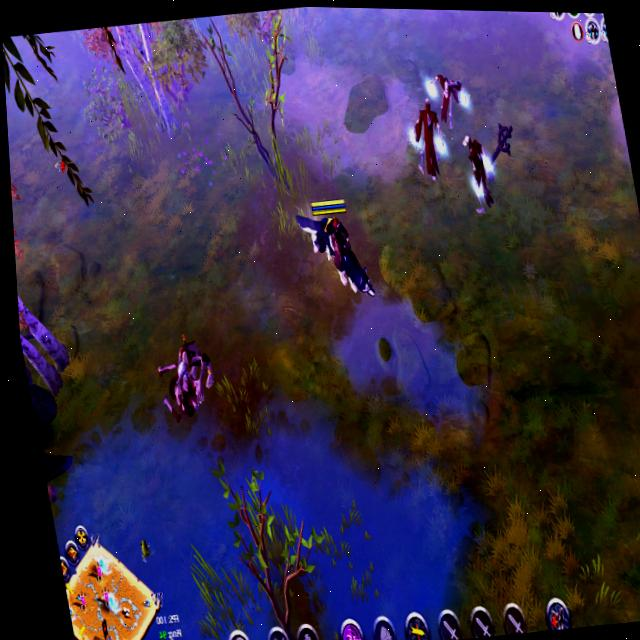ore: (5, 77, 81, 403), (72, 16, 205, 150), (452, 118, 507, 233), (400, 86, 453, 186), (163, 322, 221, 410), (423, 65, 477, 140)
red: (289, 189, 383, 318)
